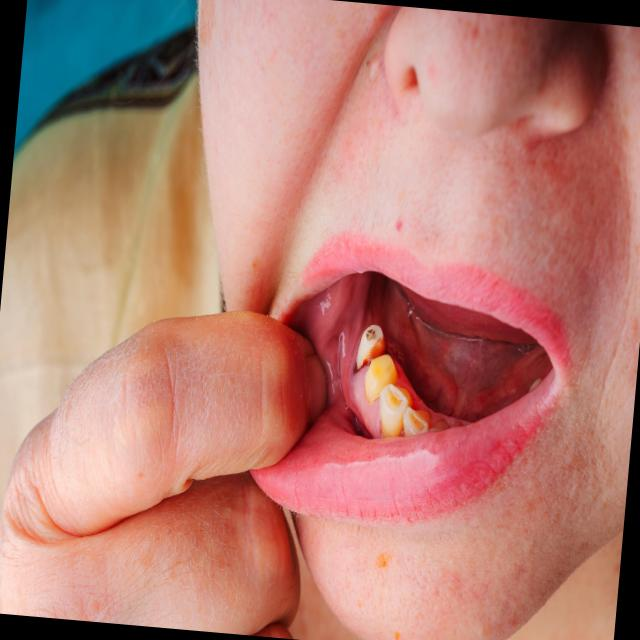Cavity: (406, 409, 425, 432), (385, 387, 402, 408)
Tooth: (379, 383, 412, 437), (365, 354, 397, 403), (356, 325, 387, 370), (402, 406, 430, 435)
